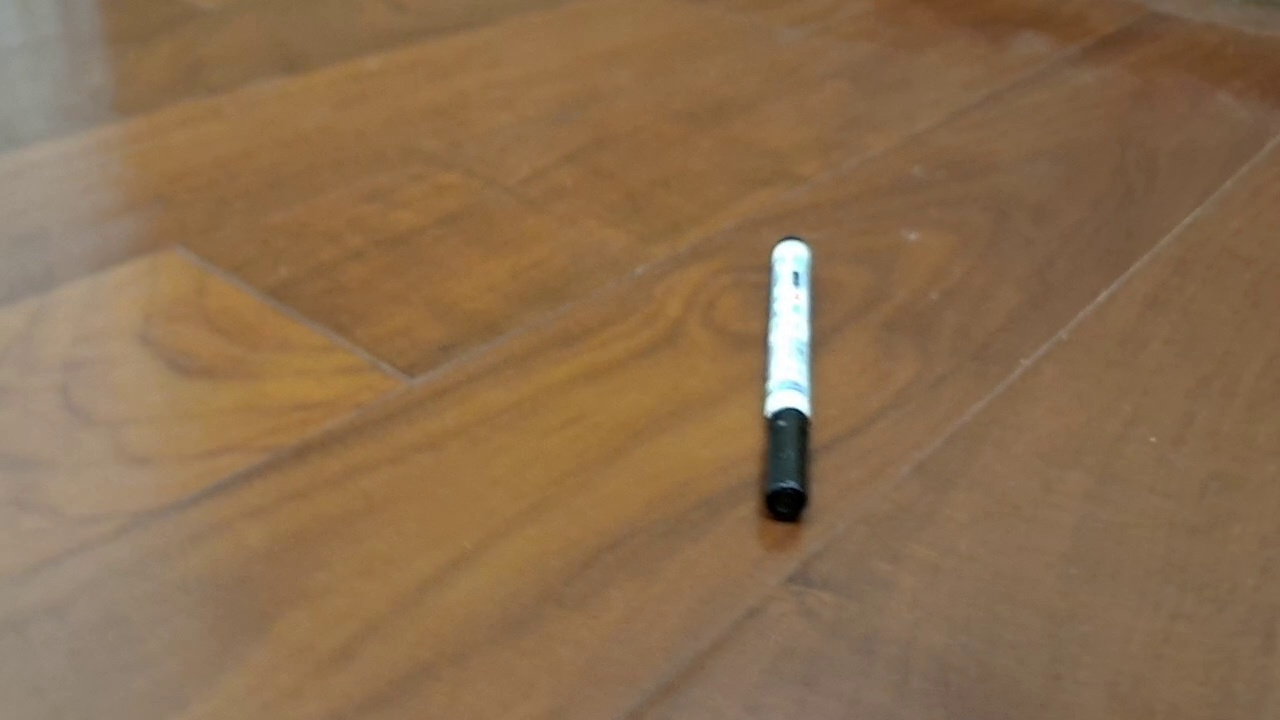pen: (763, 236, 813, 522)
